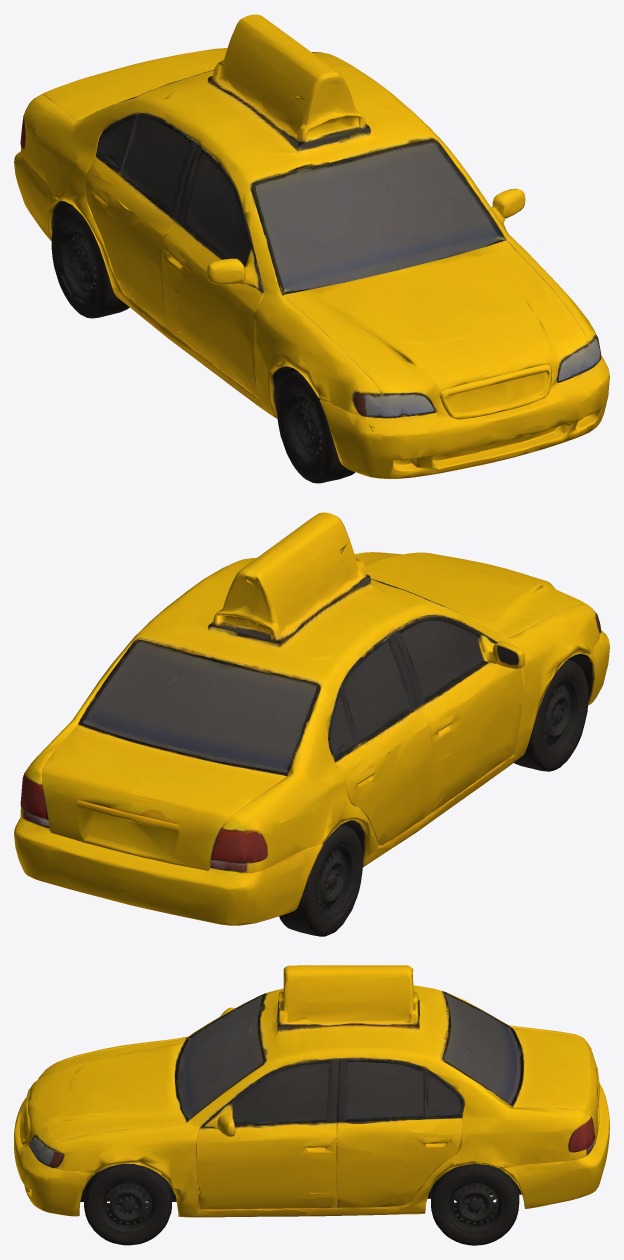
Rendered from taxi.glb.
3 renders of one model, top to bottom at view 1: azimuth 30°, elevation 25°; view 2: azimuth 150°, elevation 25°; view 3: azimuth 270°, elevation 25°, orthographic. The views are drawn at different scales.
Parts seen in each view (by area): view 1: tripo_node_87a152fb-5492-4a3d-af69-760dd0b60f88; view 2: tripo_node_87a152fb-5492-4a3d-af69-760dd0b60f88; view 3: tripo_node_87a152fb-5492-4a3d-af69-760dd0b60f88.
Boxes of the visible parts, x1,y1,x2,y2 form: tripo_node_87a152fb-5492-4a3d-af69-760dd0b60f88: (14, 14, 609, 483); tripo_node_87a152fb-5492-4a3d-af69-760dd0b60f88: (14, 512, 609, 936); tripo_node_87a152fb-5492-4a3d-af69-760dd0b60f88: (14, 965, 609, 1245).
Bounding box in the file's own units: 0.462 × 0.4198 × 0.9792.
1 material, 1 textured.
